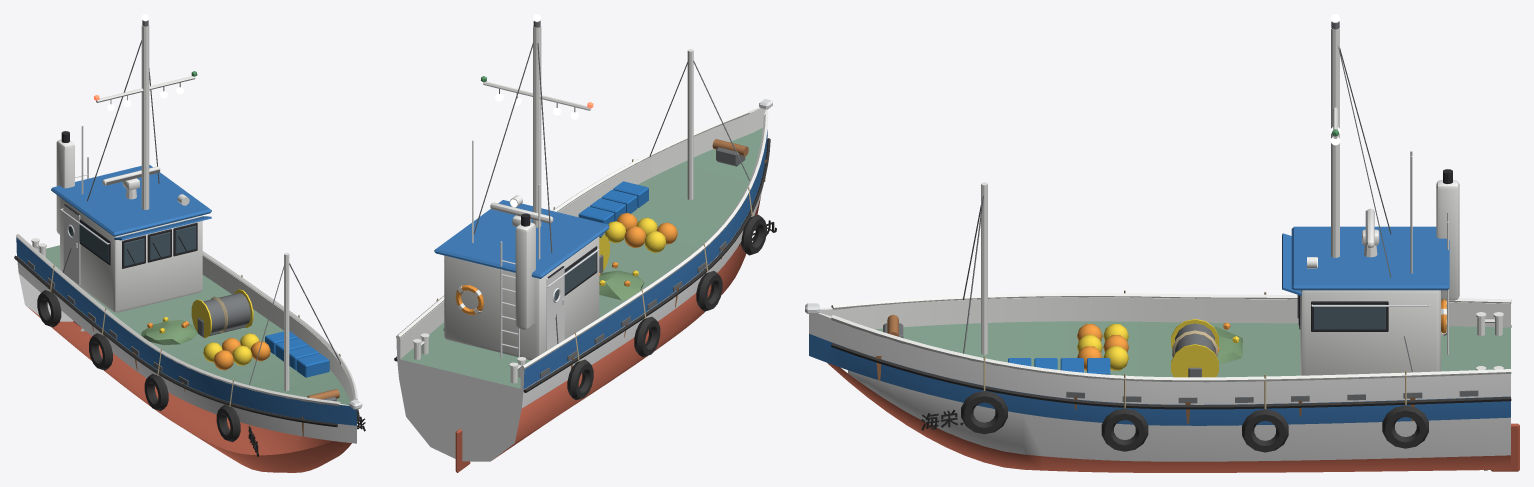
Rendered from fishing_boat_b.glb.
The picture shows the model from 3 angles, left to right: view 1: azimuth 30°, elevation 25°; view 2: azimuth 150°, elevation 25°; view 3: azimuth 270°, elevation 25°; orthographic projection. The views are drawn at different scales.
Parts seen in each view (by area): view 1: fishing_boat_b_body, fishing_boat_b_radar; view 2: fishing_boat_b_body, fishing_boat_b_radar; view 3: fishing_boat_b_body.
Part boxes in pixels (x1,y1,x2,y2): fishing_boat_b_body: [14, 14, 365, 472]; fishing_boat_b_radar: [102, 166, 160, 190]; fishing_boat_b_body: [394, 14, 776, 472]; fishing_boat_b_radar: [490, 202, 553, 226]; fishing_boat_b_body: [805, 14, 1519, 472].
Bounding box in the file's own units: 3.8 × 8.62 × 12.22.
